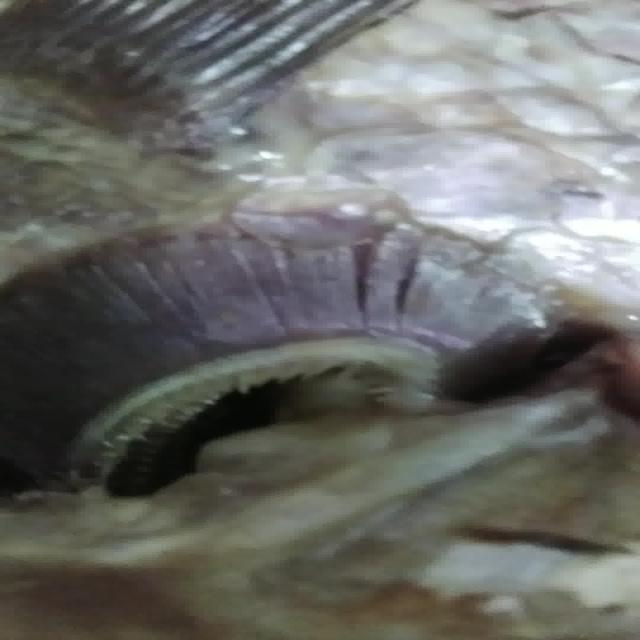Non-Fresh: (12, 203, 571, 482)
